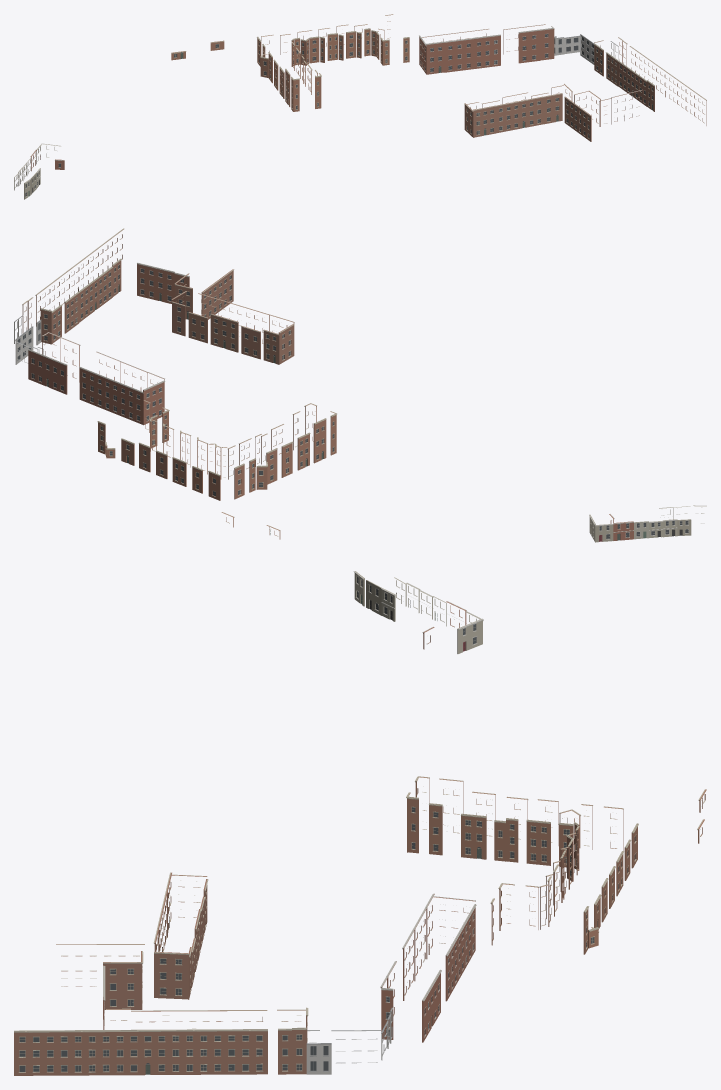
3 renders of one model, top to bottom at view 1: azimuth 30°, elevation 25°; view 2: azimuth 150°, elevation 25°; view 3: azimuth 270°, elevation 25°, orthographic. The views are drawn at different scales.
Parts seen in each view (by area): view 1: f:way/161063757, f:way/161063754, f:way/161063732, f:way/161063735, f:way/161063728, f:way/161063751; view 2: f:way/161063757, f:way/161063754, f:way/161063732, f:way/161063735, f:way/161063728, f:way/161063719, f:way/161063751, f:way/100417644; view 3: f:way/161063735, f:way/161063757, f:way/161063754, f:way/161063732, f:way/161063728, f:way/161063751.
Part boxes in pixels (box(x1,y1,x2,y2)): f:way/161063757: box(257, 14, 409, 111); f:way/161063754: box(419, 24, 554, 74); f:way/161063732: box(464, 83, 572, 137); f:way/161063735: box(594, 37, 706, 125); f:way/161063728: box(564, 90, 600, 141); f:way/161063751: box(554, 34, 618, 64); f:way/161063757: box(97, 400, 336, 500); f:way/161063754: box(28, 332, 165, 425); f:way/161063732: box(171, 291, 294, 364); f:way/161063735: box(22, 228, 124, 344); f:way/161063728: box(174, 269, 234, 319); f:way/161063719: box(137, 262, 189, 303); f:way/161063751: box(14, 315, 43, 364); f:way/100417644: box(649, 507, 677, 537); f:way/161063735: box(14, 1007, 308, 1075); f:way/161063757: box(406, 776, 638, 954); f:way/161063754: box(380, 893, 476, 1042); f:way/161063732: box(153, 872, 208, 999); f:way/161063728: box(56, 944, 144, 1009); f:way/161063751: box(306, 1007, 392, 1074).
Size of the model in its own units: 240 by 14.38 by 145.
